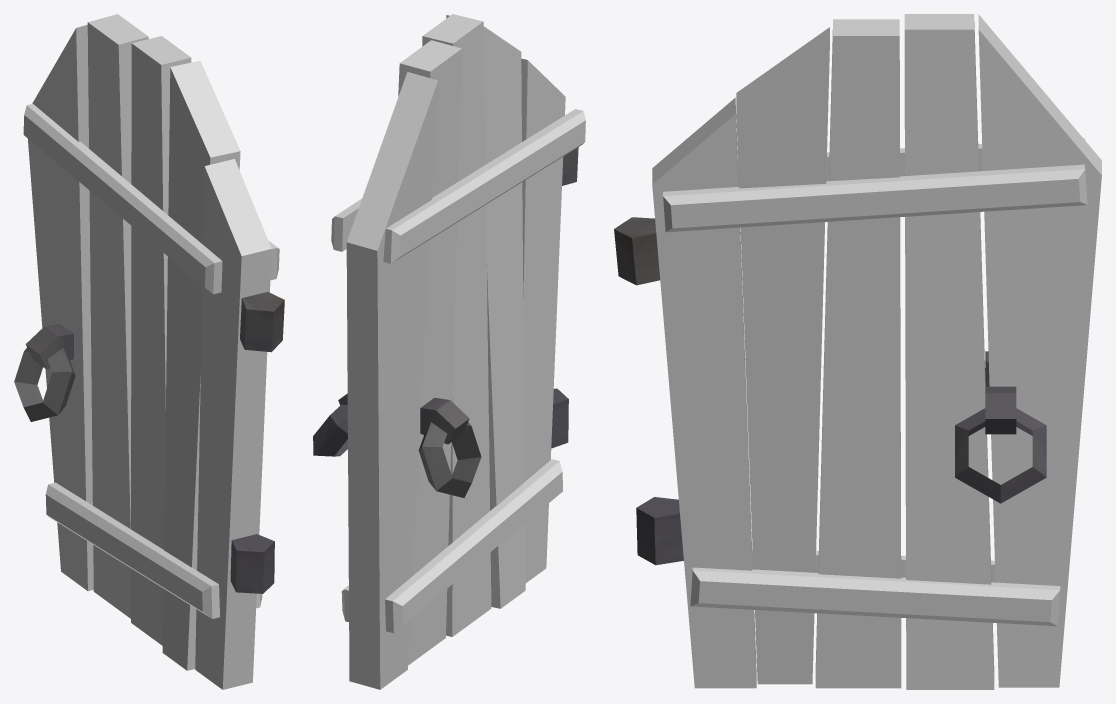
File: SM_Door.fbx
The picture shows the model from 3 angles, left to right: view 1: azimuth 30°, elevation 25°; view 2: azimuth 150°, elevation 25°; view 3: azimuth 270°, elevation 25°; orthographic projection. The views are drawn at different scales.
Visible parts, largest first — view 1: SM_Door.003; view 2: SM_Door.003; view 3: SM_Door.003.
Part boxes in pixels (bbox=[...]): SM_Door.003: bbox=[14, 14, 284, 689]; SM_Door.003: bbox=[313, 14, 585, 689]; SM_Door.003: bbox=[614, 14, 1101, 689].
Size of the model in its own units: 0.6862 by 2.55 by 1.73.
